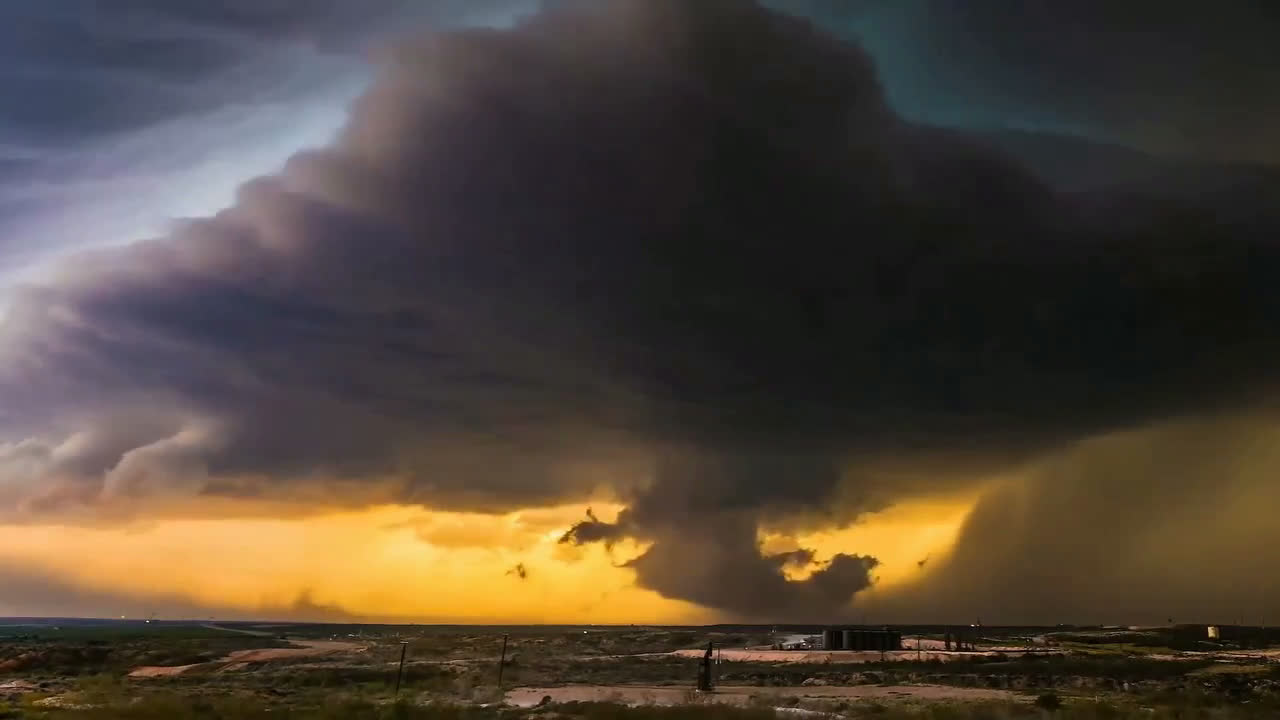RFD: (691, 413, 1277, 626)
mesocyclone: (192, 0, 1280, 517)
striations: (2, 146, 513, 358)
wall cloud: (5, 8, 1278, 599)
